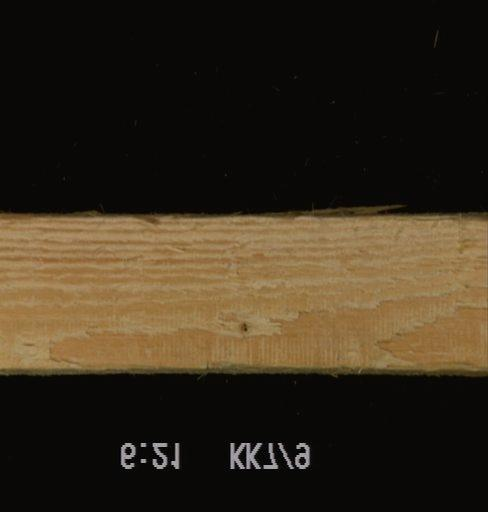small_knot: (235, 319, 252, 336)
